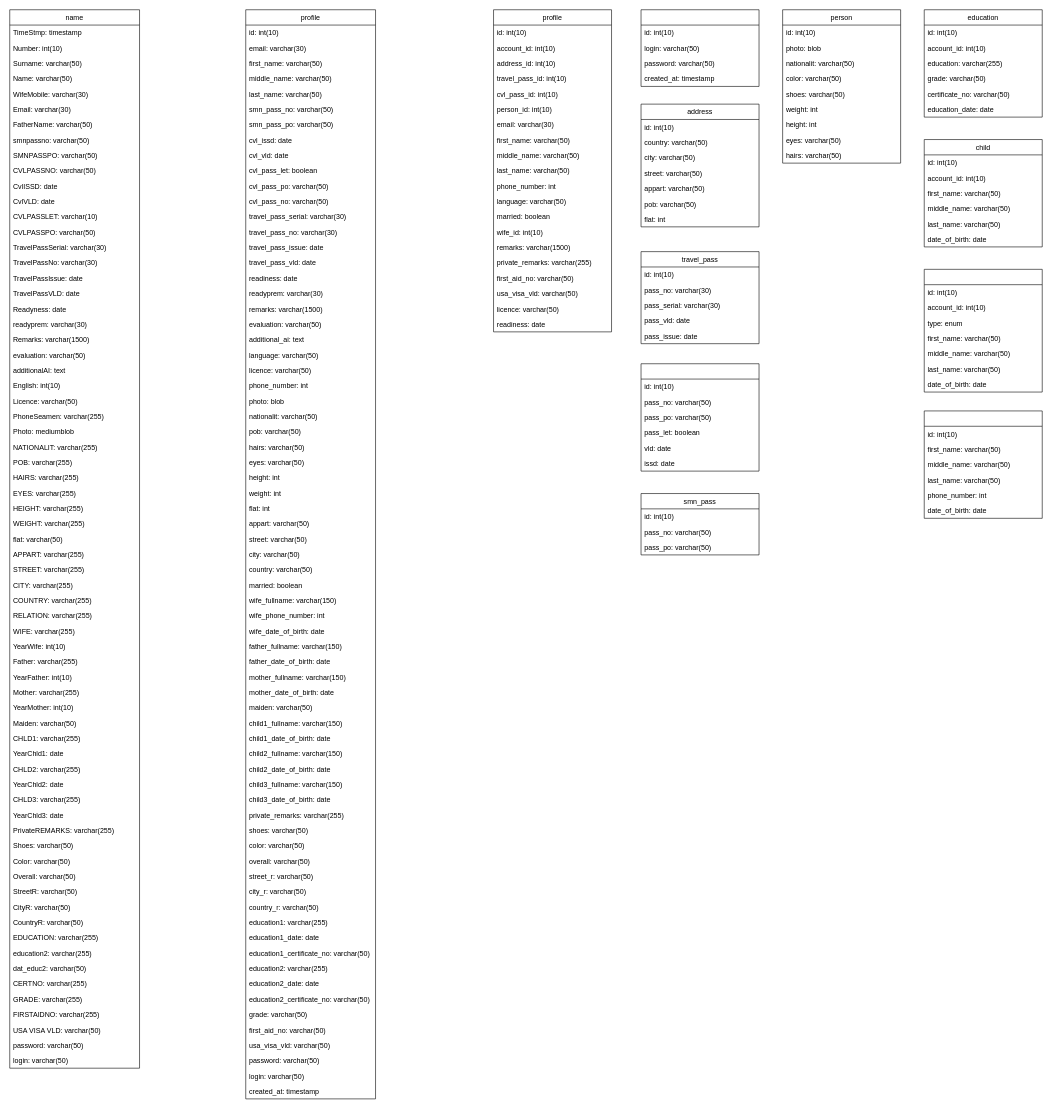
Some shapes in this 1052 by 1109 pixel diagram are drawn without their labels. The shapes that lost their labels are listed below. From the top down, each one's box as (x1, y1, x2, y2) in pixels, then its label:
(640, 9, 759, 86): account
(924, 269, 1042, 392): parent
(640, 363, 759, 471): cvl_pass
(924, 410, 1042, 518): wife
